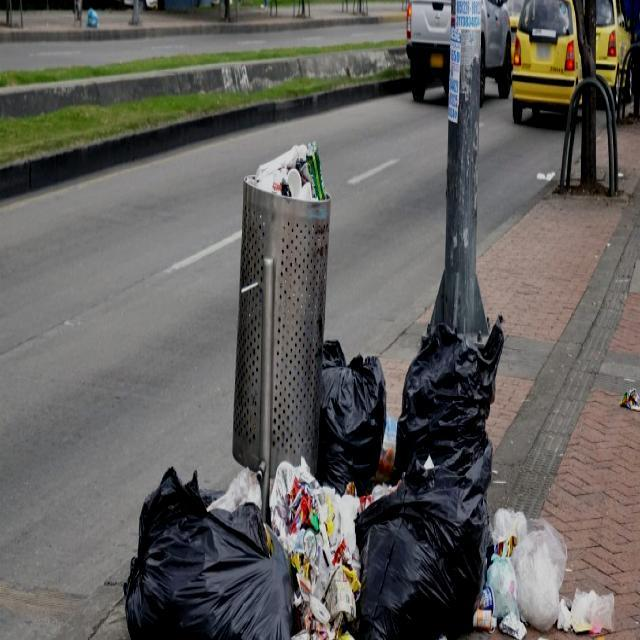high trash: (125, 322, 614, 640)
